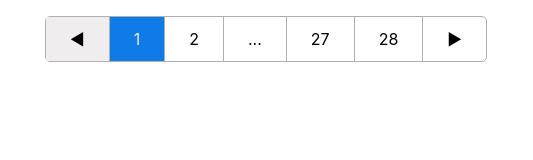
Test: Pagination › Without the initial page › should show the next page when the visible page is clicked
Click the button "2" at (194, 39), box [189,29,199,49]
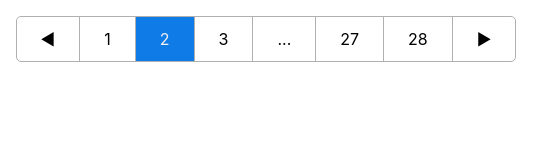
Expected: the button "3" is shown, [218,29,228,49]
